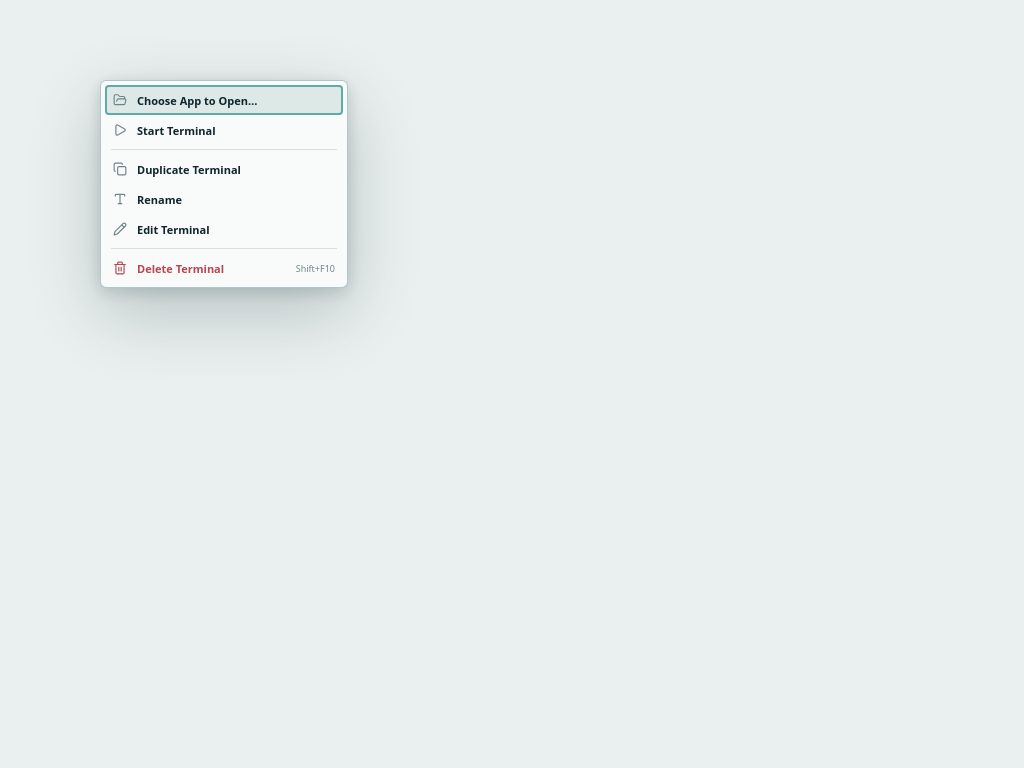
Test: TerminalActions › shows a readable error when the duplicate cannot be persisted
The width and height of the screenshot is (1024, 768).
Click the menu item "Duplicate Terminal": x=224, y=169 left=105, top=154, right=343, bottom=184
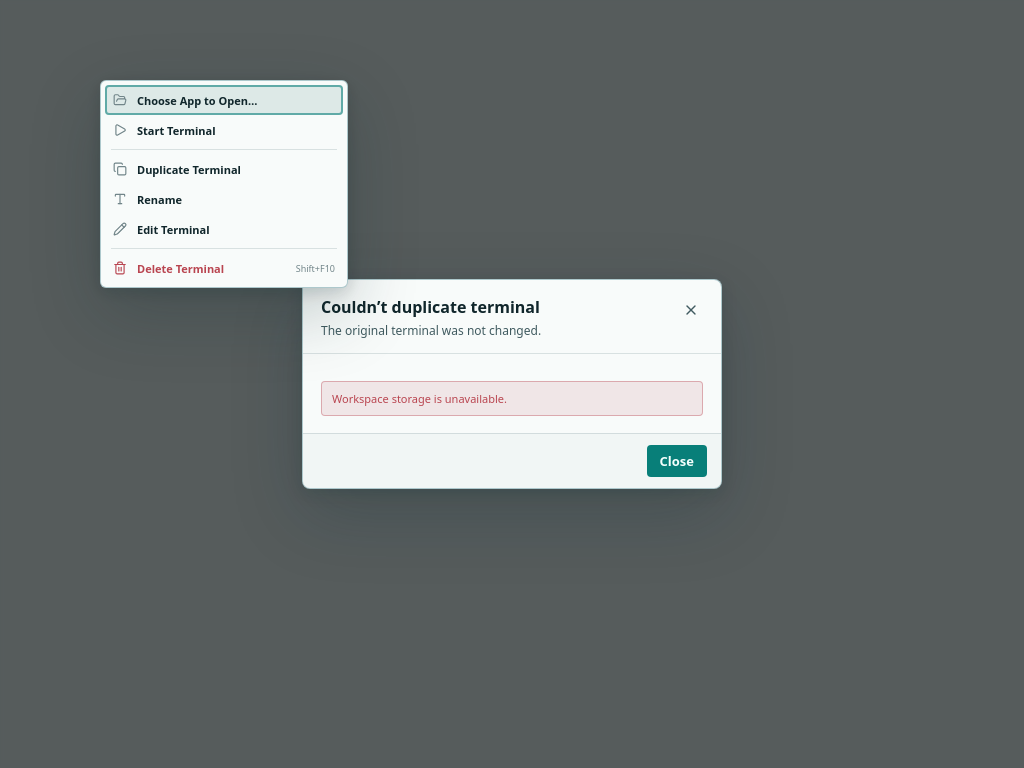
Check: the heading "Couldn’t duplicate terminal" is shown, box left=321, top=296, right=541, bottom=318
Check: the text "Workspace storage is unavailable." is shown, box left=321, top=380, right=703, bottom=416
